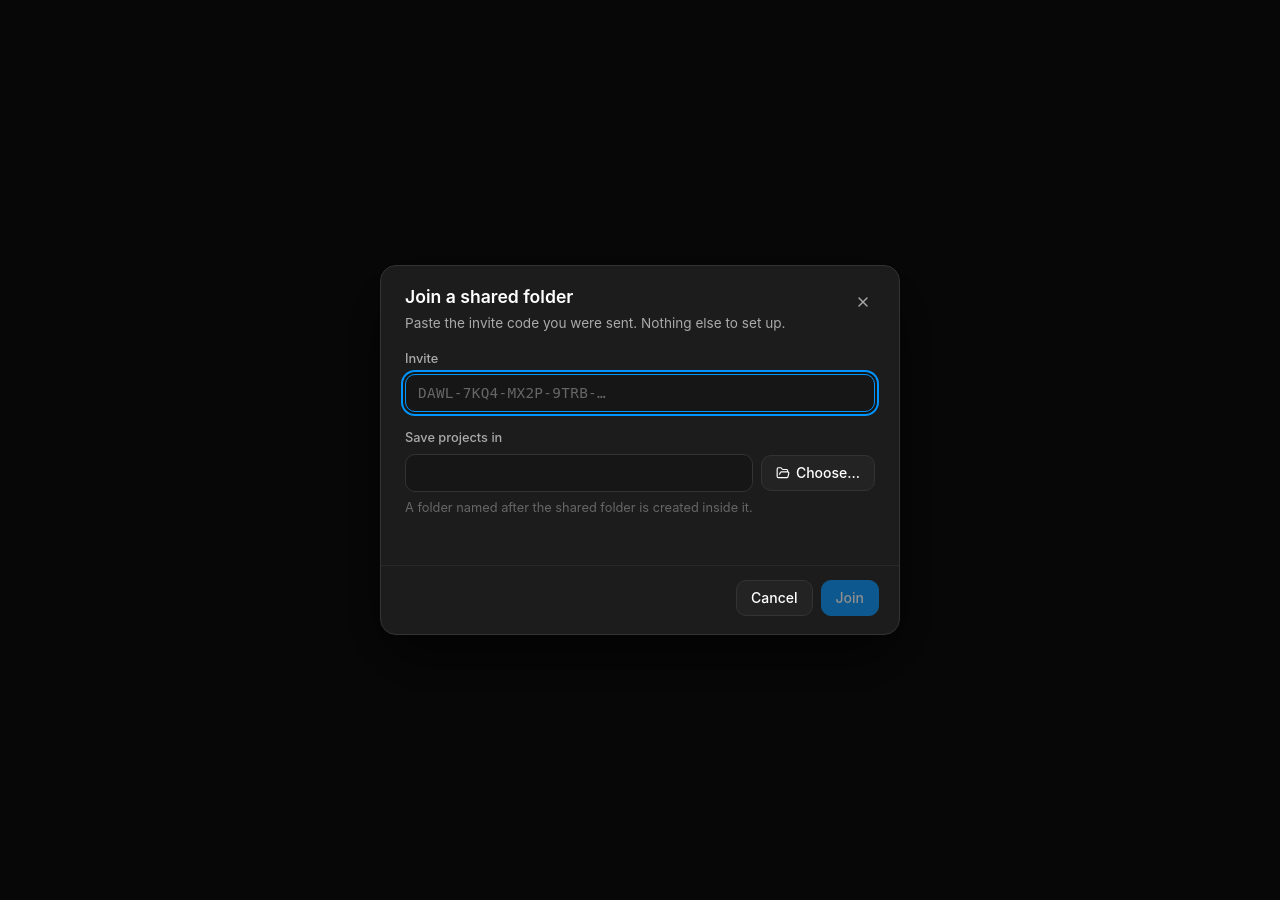
Scenario: JoinFolderDialog › keeps Join disabled until there is a preview and a folder
Expected: the button "Join" is disabled, x1=820 y1=580 x2=879 y2=616
Type "DAWL-7KQ4-MX2P-9TRB" into the field labelled "Invite".
click(640, 393); type("DAWL-7KQ4-MX2P-9TRB")  # box x1=405 y1=374 x2=875 y2=412
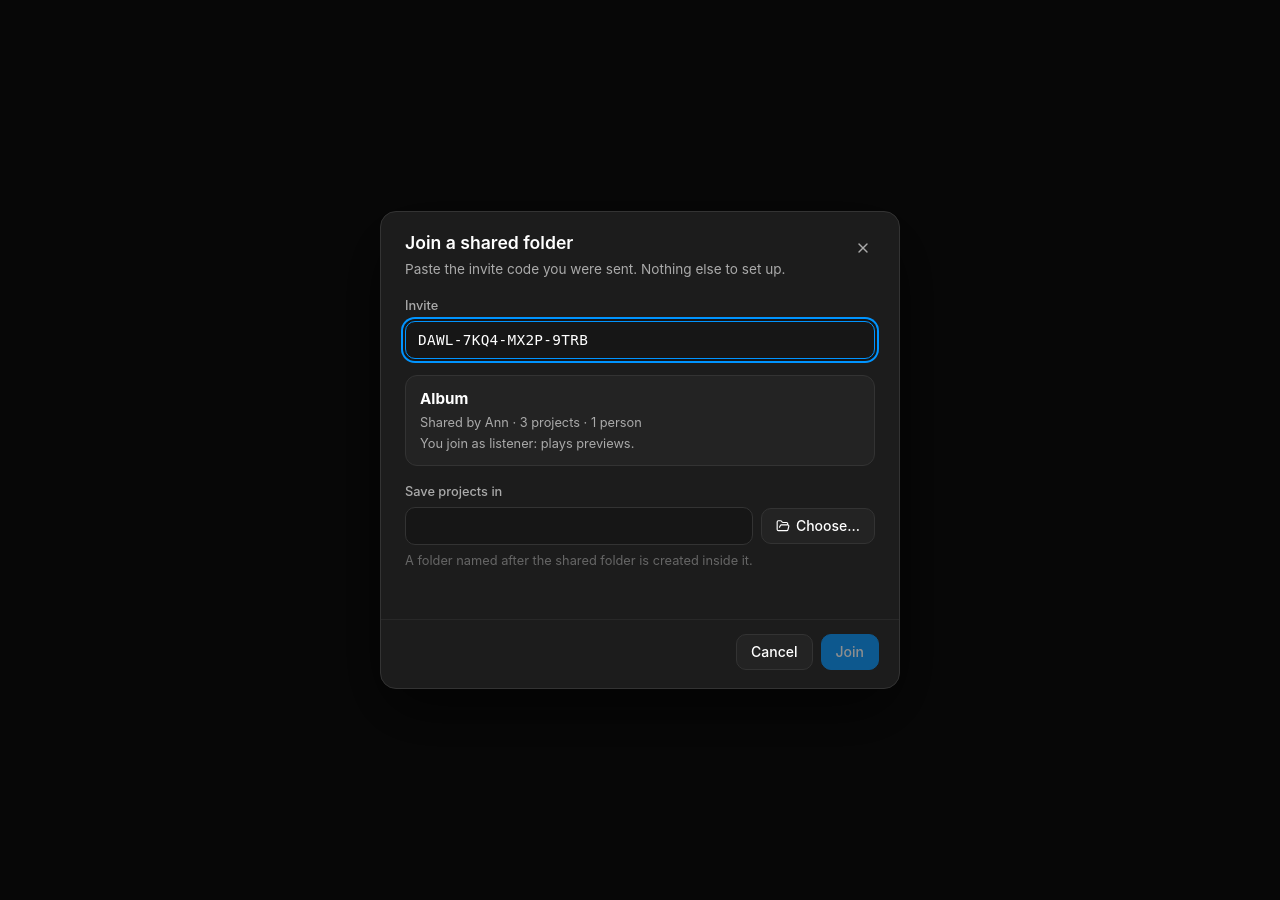
Expected: the button "Join" is disabled, x1=820 y1=634 x2=879 y2=670
Result: the text "Album" is shown at x1=420 y1=389 x2=468 y2=408
Click the button "Choose…".
click(818, 526)  # box x1=761 y1=508 x2=875 y2=544
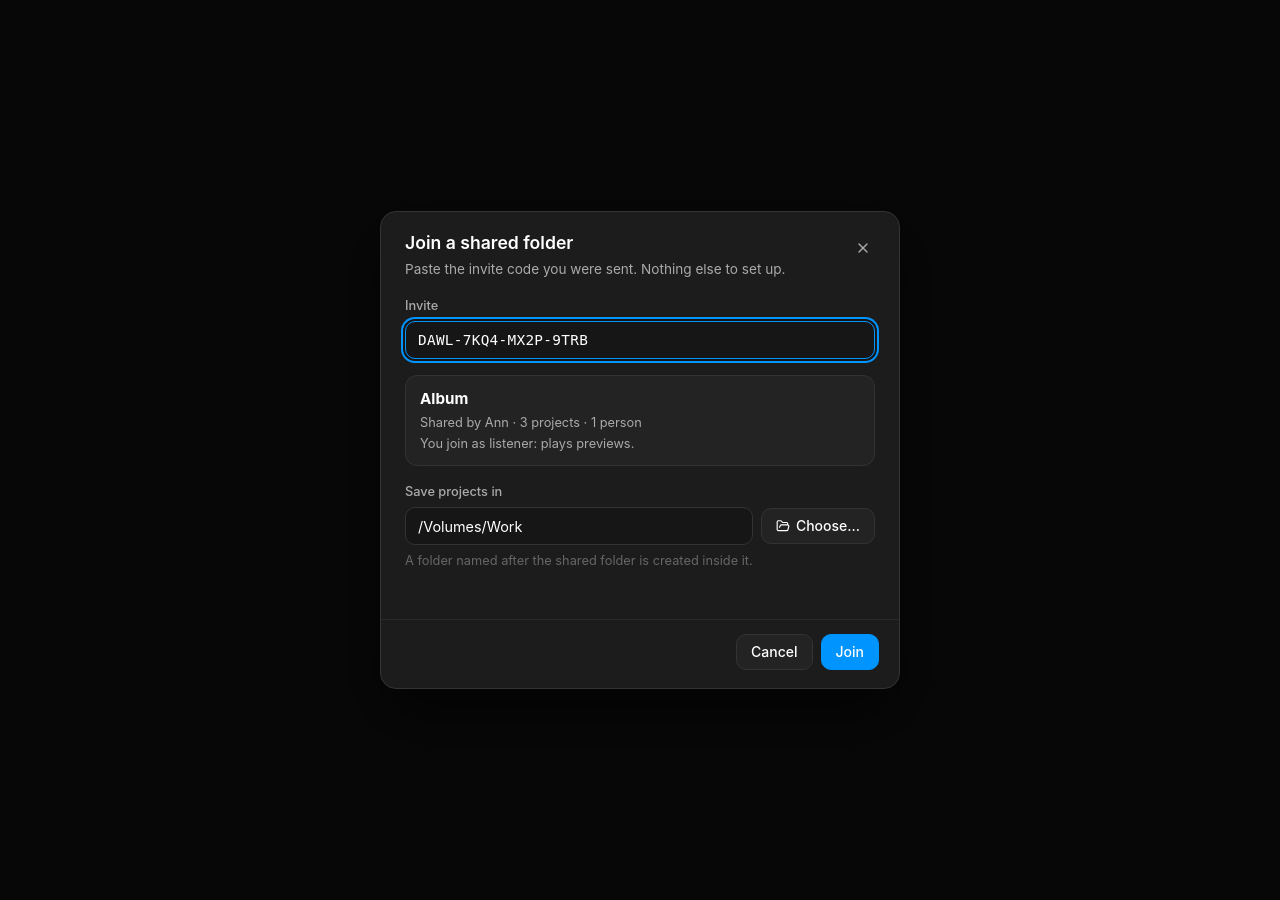
Result: the field labelled "Save projects in" holds "/Volumes/Work" at x1=405 y1=507 x2=753 y2=545
Result: the button "Join" is enabled at x1=820 y1=634 x2=879 y2=670
